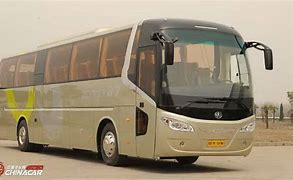bigcar: (0, 15, 283, 163)
